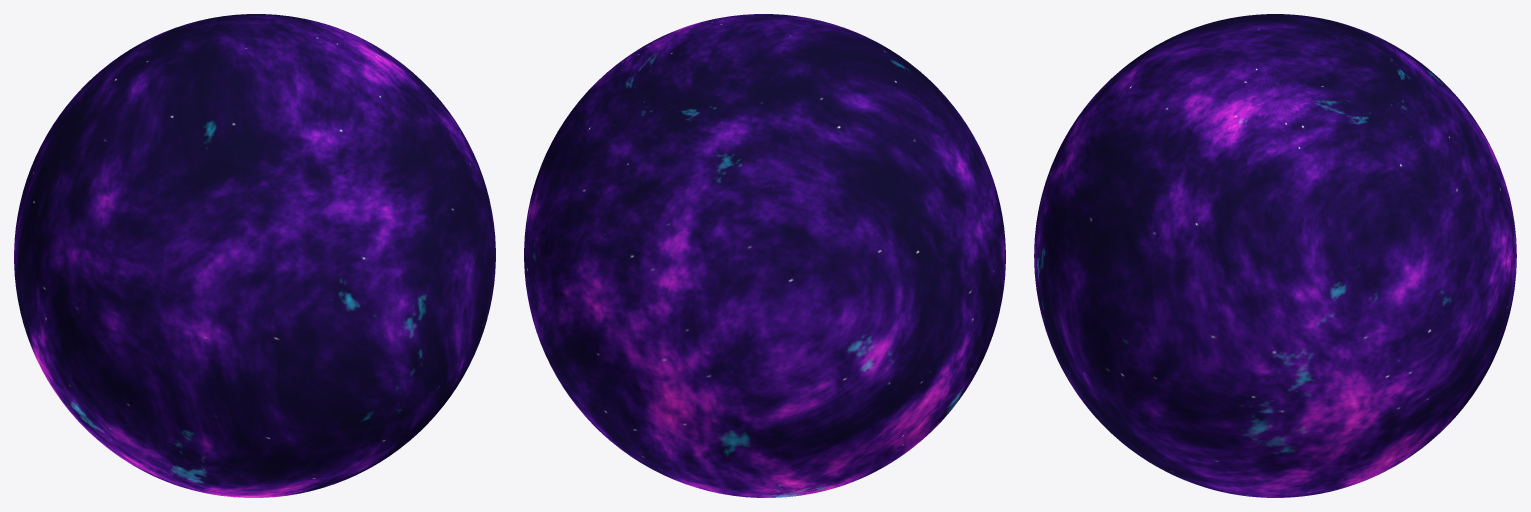
The model's file is skybox.gltf.
3 views of the same model, side by side, from view 1: azimuth 30°, elevation 25°; view 2: azimuth 150°, elevation 25°; view 3: azimuth 270°, elevation 25° (orthographic).
Visible parts, largest first — view 1: Sphere; view 2: Sphere; view 3: Sphere.
Boxes of the visible parts, x1,y1,x2,y2 form: Sphere: [14, 14, 495, 497]; Sphere: [524, 14, 1005, 497]; Sphere: [1034, 14, 1516, 497].
Bounding box in the file's own units: 253 × 254 × 253.
1 material, 1 textured.
